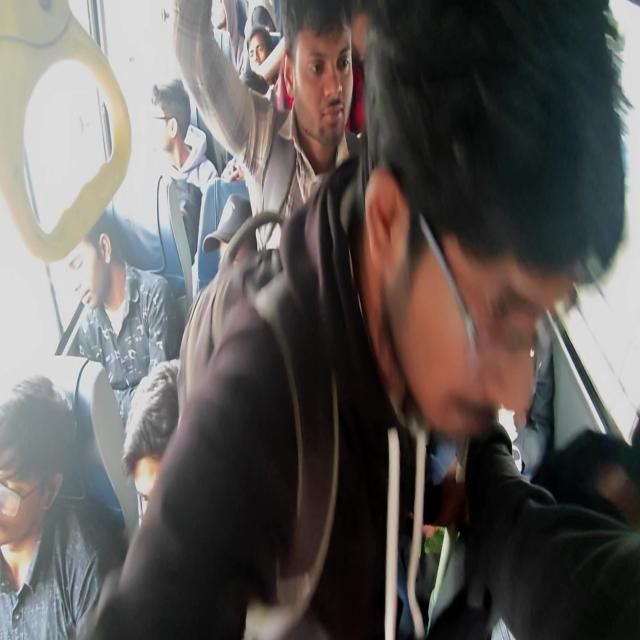person: (373, 32, 576, 424), (121, 393, 213, 568), (45, 190, 126, 309), (290, 8, 352, 158), (0, 381, 42, 531), (208, 217, 262, 328), (149, 92, 188, 168), (245, 34, 272, 90), (207, 0, 232, 37), (253, 8, 273, 37)
